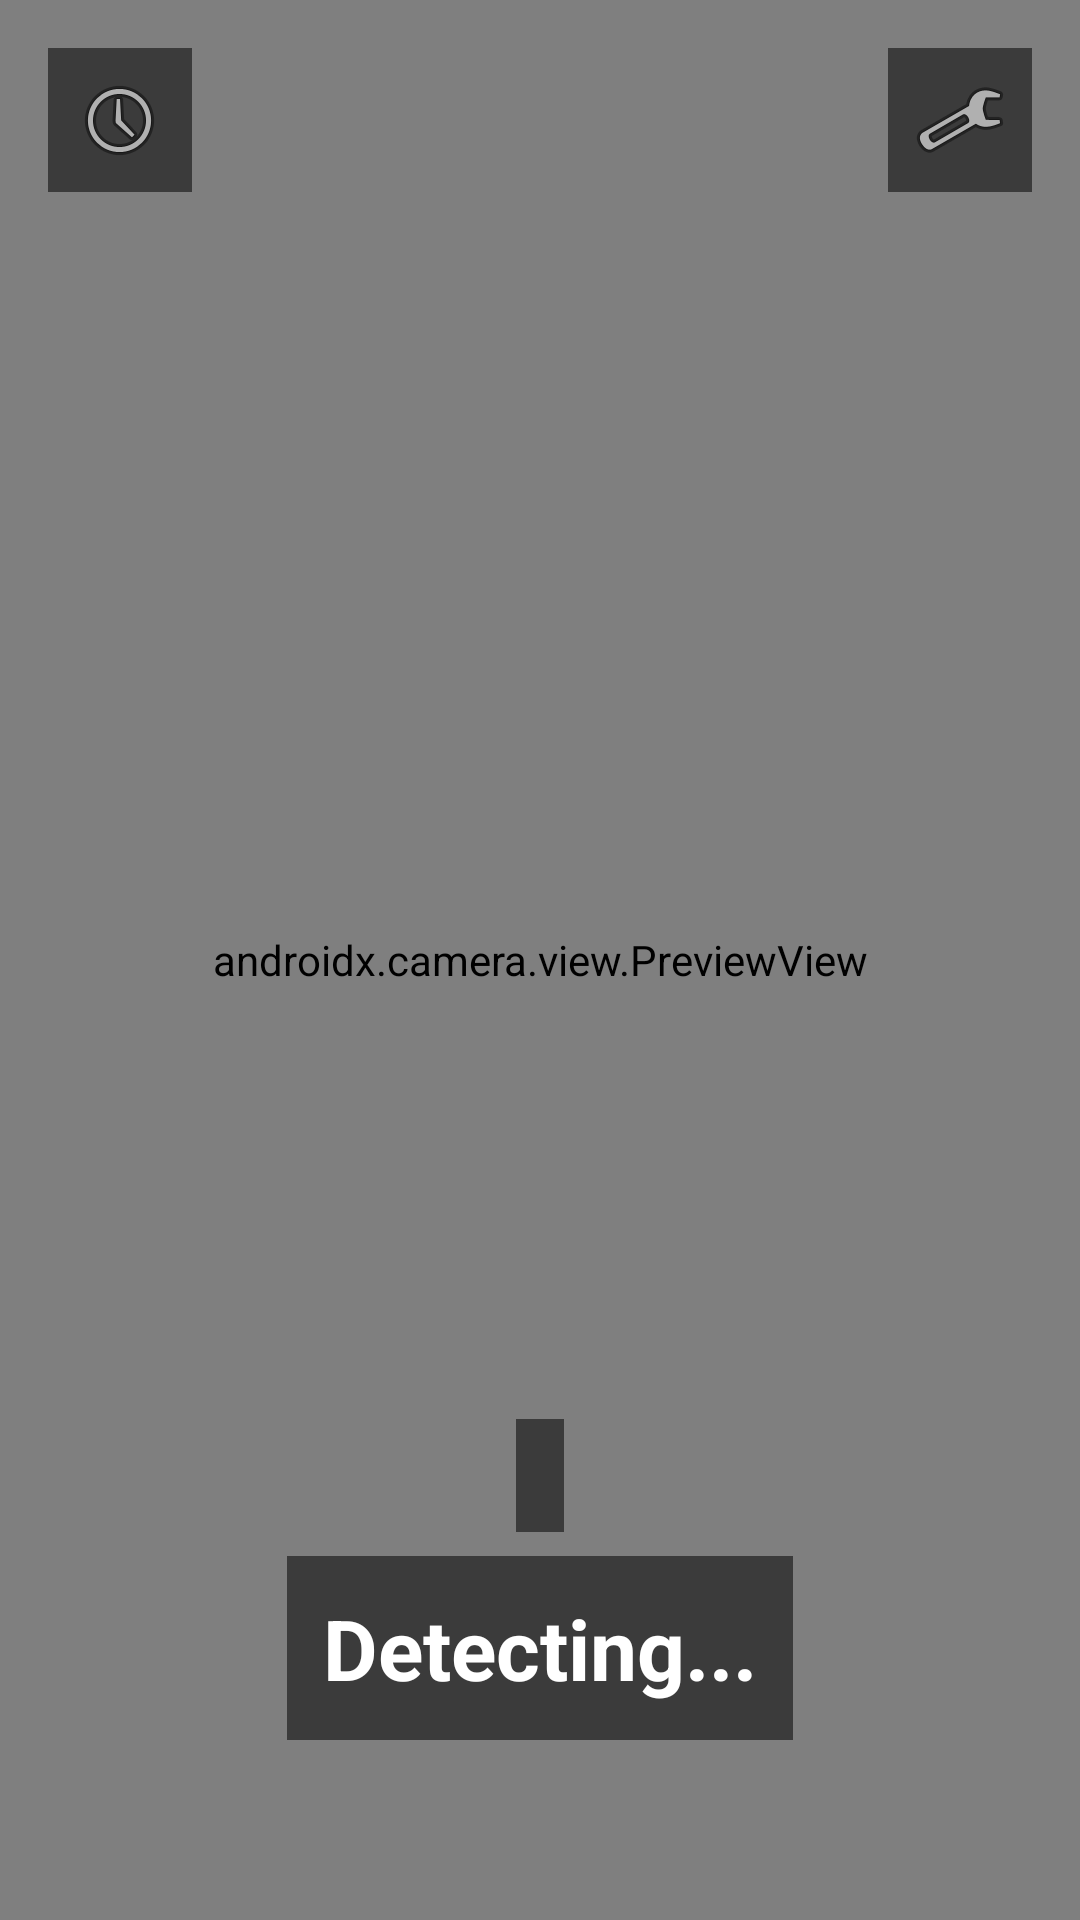

Icons on this 1080 × 1920 Android screen, each with its box as (x1, y1, x2, y2):
preferences: (888, 48, 1032, 192)
recent history: (48, 48, 192, 192)
